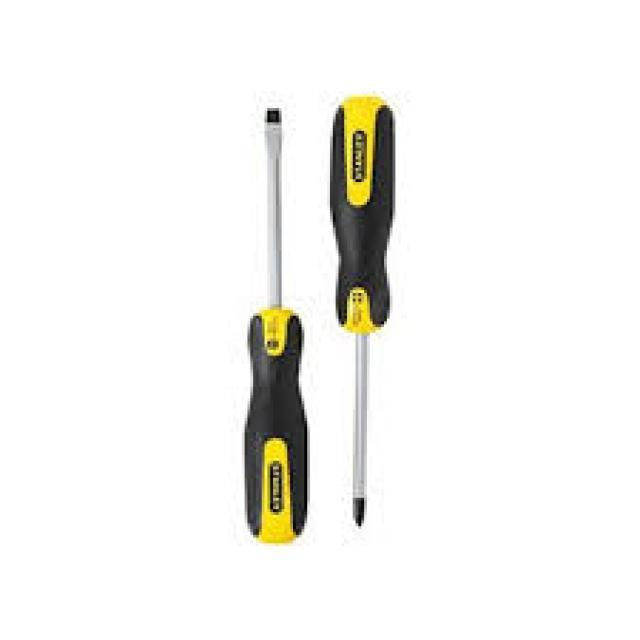screwdriver: (317, 84, 400, 528), (238, 103, 308, 546)
